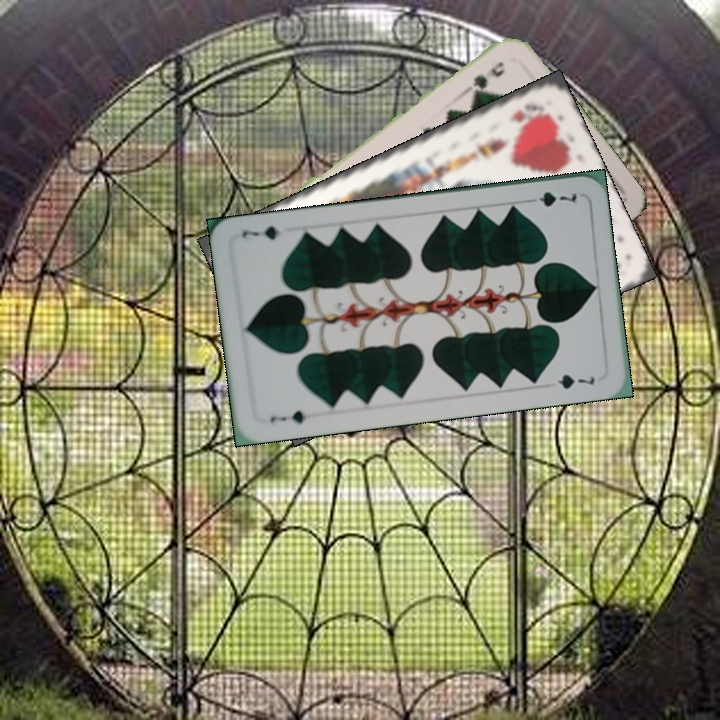G7: (522, 187, 580, 209), (266, 406, 309, 427)
G9: (462, 57, 507, 97)
HK: (505, 99, 547, 125)
